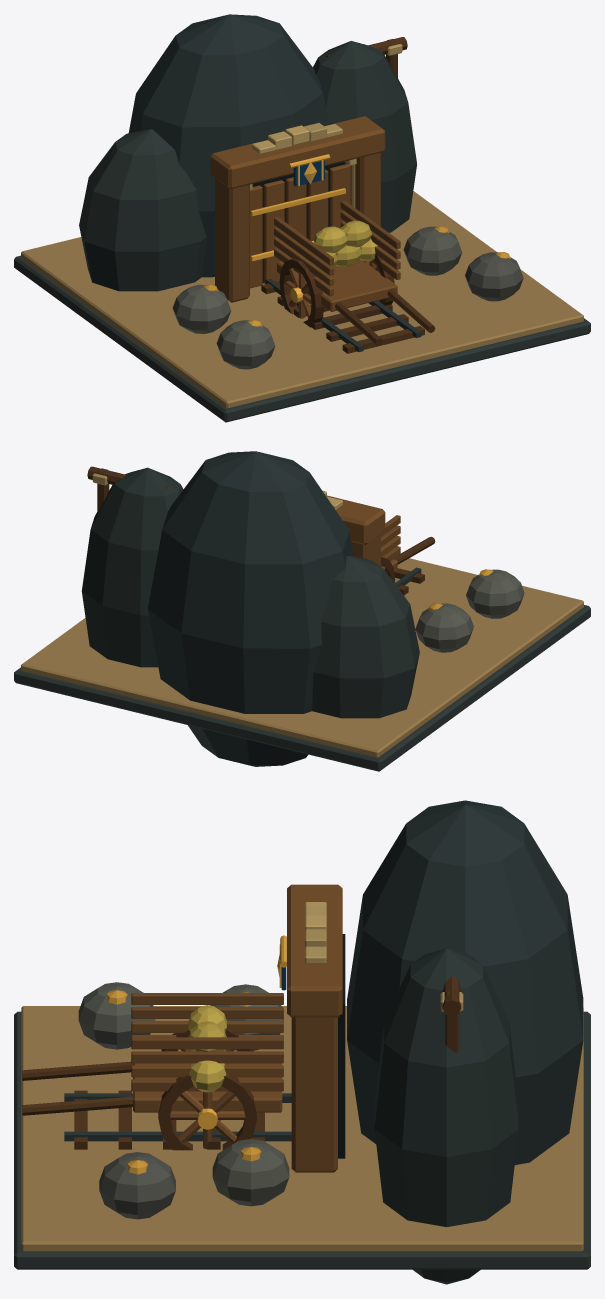
File: mine.glb
3 renders of one model, top to bottom at view 1: azimuth 30°, elevation 25°; view 2: azimuth 150°, elevation 25°; view 3: azimuth 270°, elevation 25°, orthographic. The views are drawn at different scales.
Parts seen in each view (by area): view 1: mine_structure, mine_brass; view 2: mine_structure; view 3: mine_structure, mine_brass.
Boxes of the visible parts, left/top/right/bottom form: mine_structure: left=14, top=14, right=590, bottom=422; mine_brass: left=250, top=154, right=345, bottom=302; mine_structure: left=14, top=451, right=590, bottom=771; mine_structure: left=14, top=800, right=590, bottom=1284; mine_brass: left=197, top=935, right=286, bottom=1129.
Bounding box in the file's own units: 5.6 × 4.6 × 5.6.
